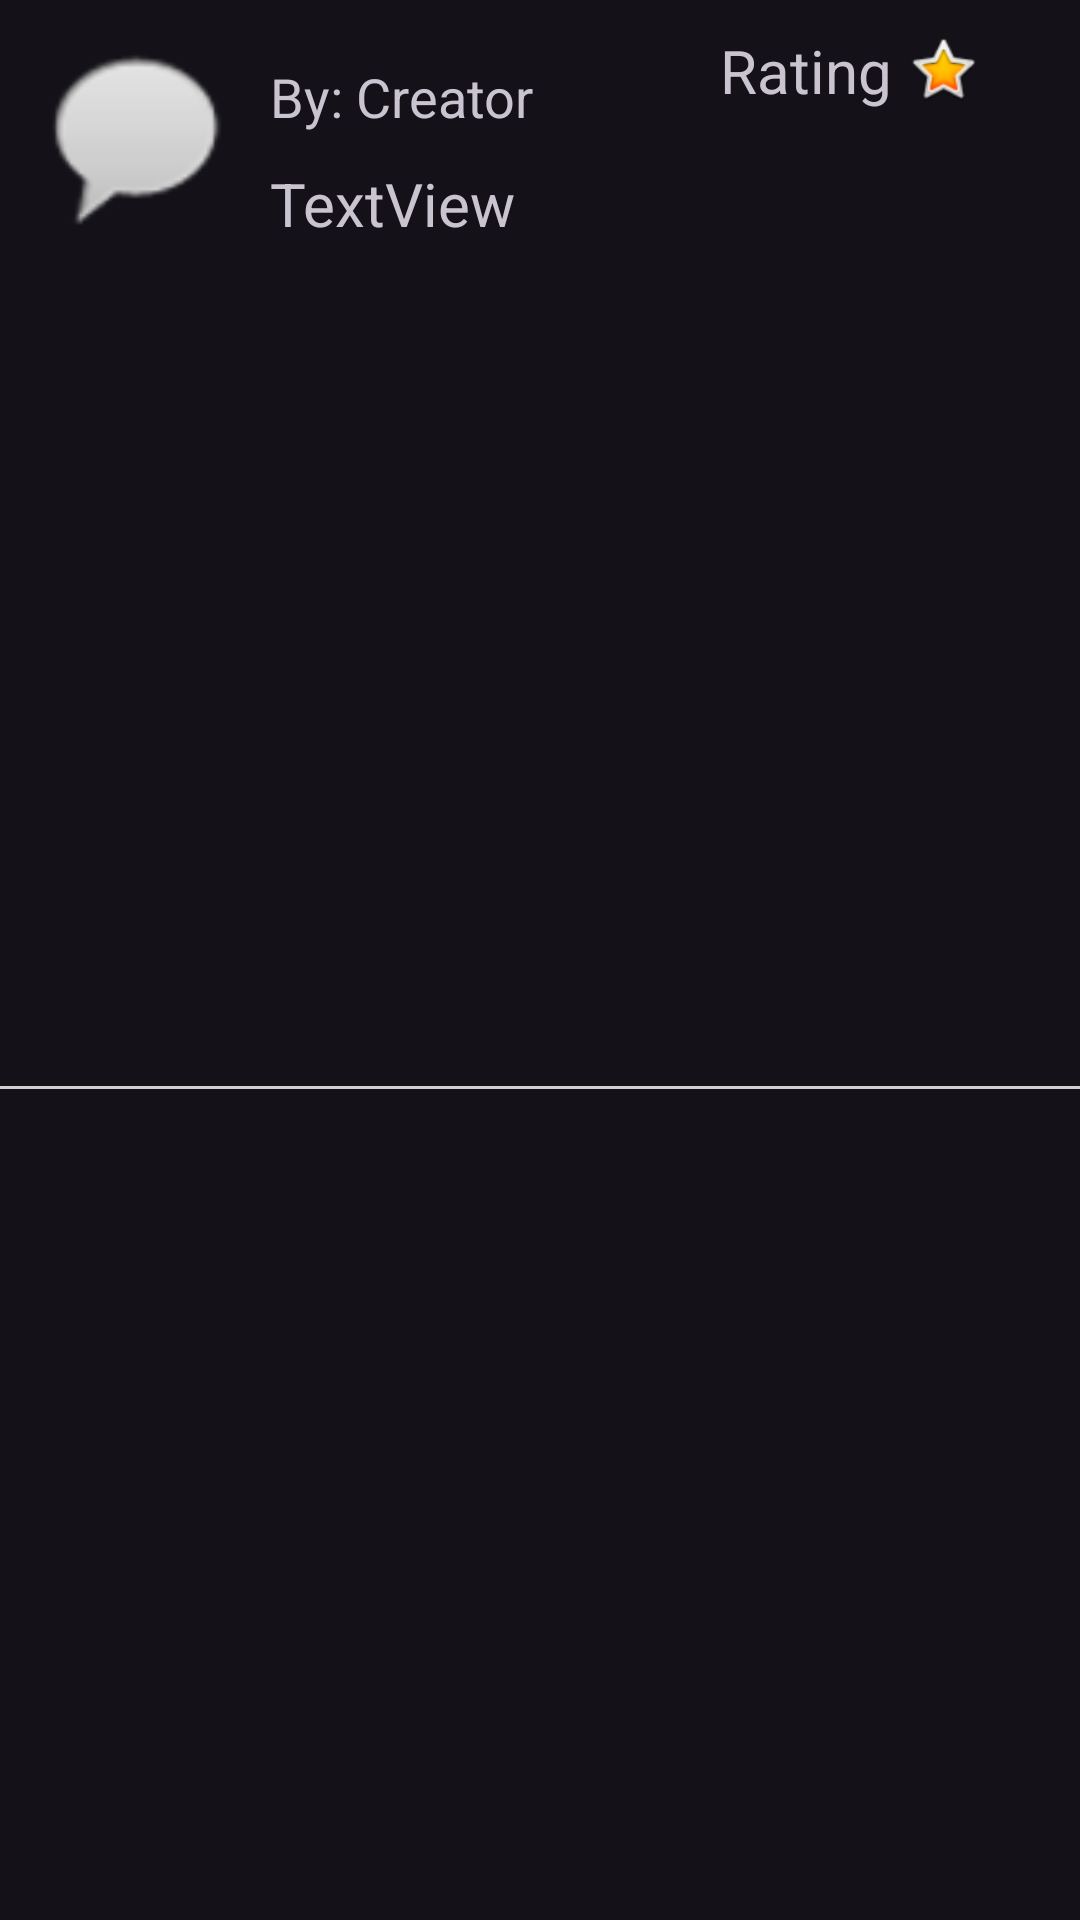

Icon click points for this 1080 × 1920 phone screenshot, format (x,y):
star on: (943,69)
sym action chat: (137,140)
